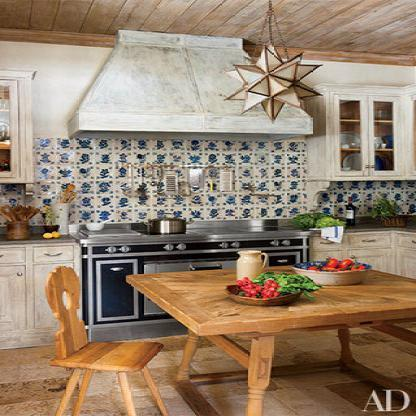chair: (44, 259, 166, 416)
table: (120, 264, 416, 416)
